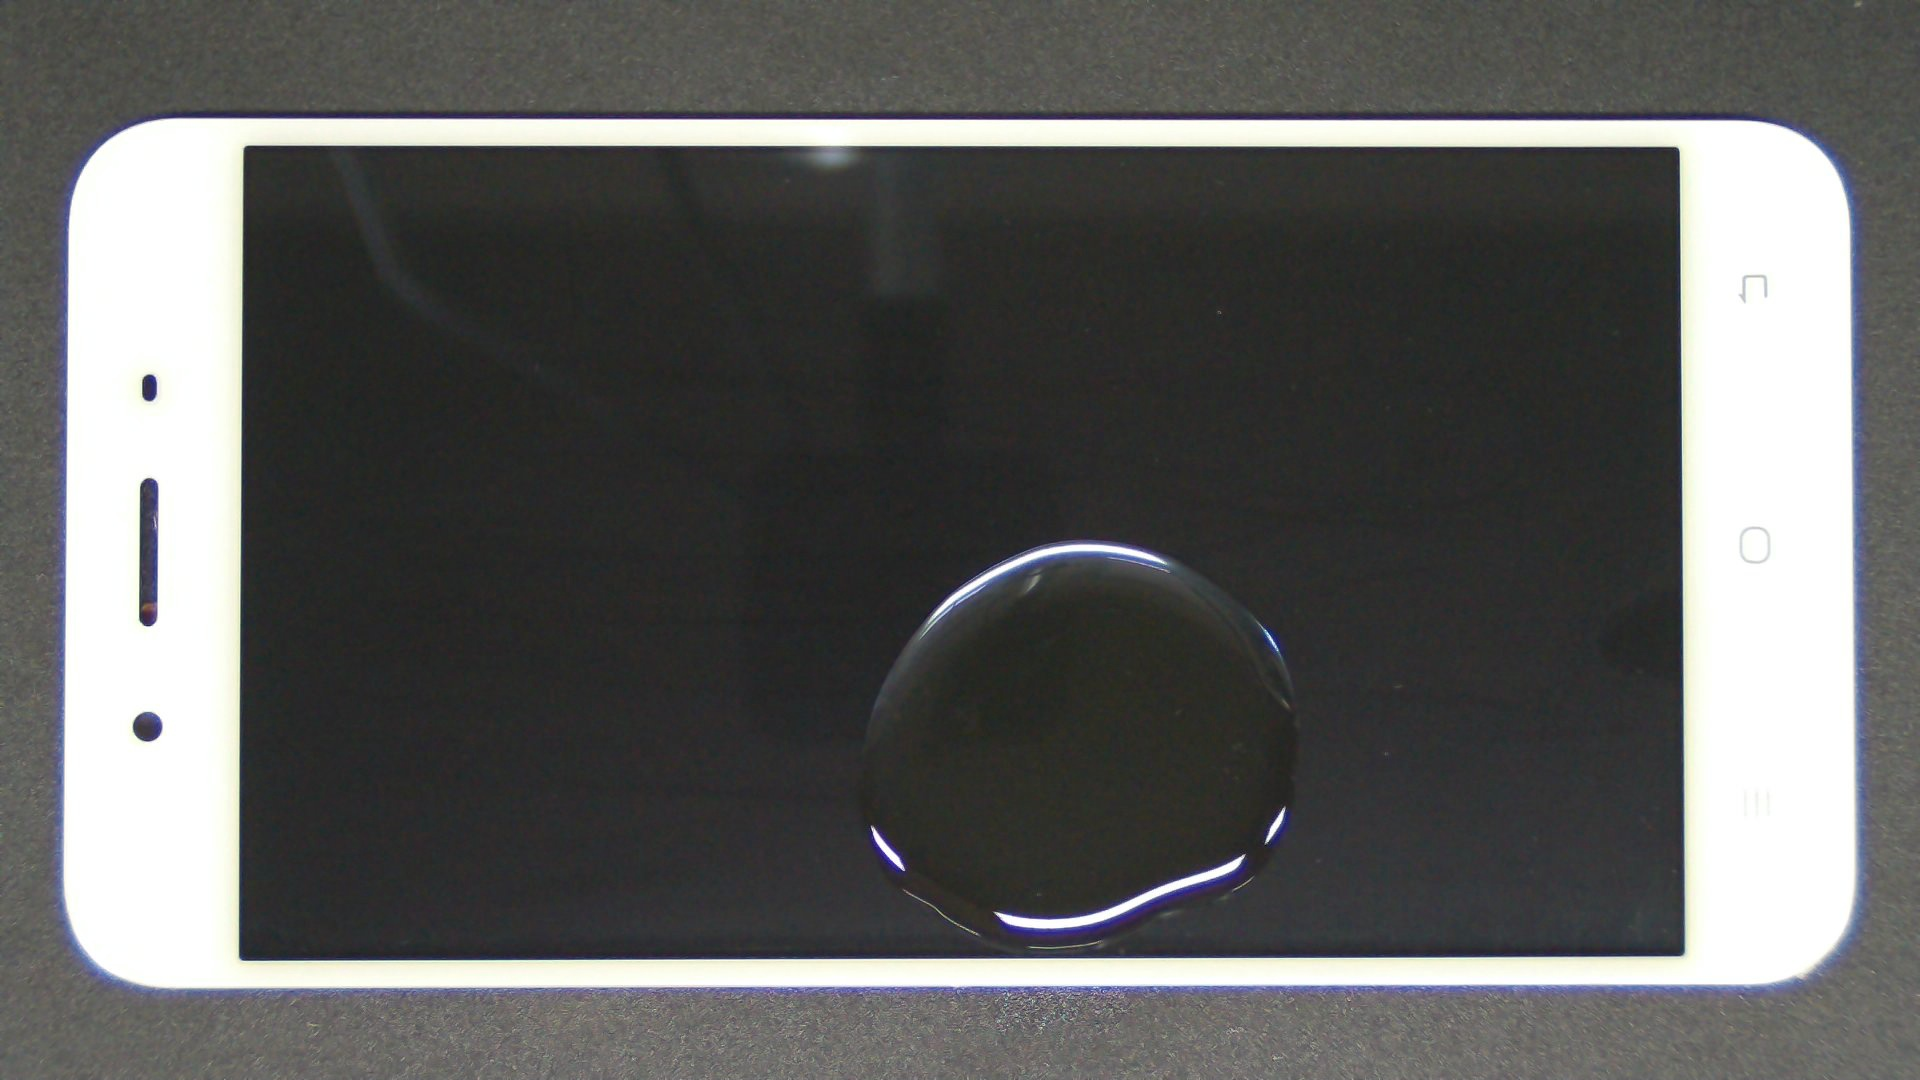oil: (538, 269, 1614, 811)
